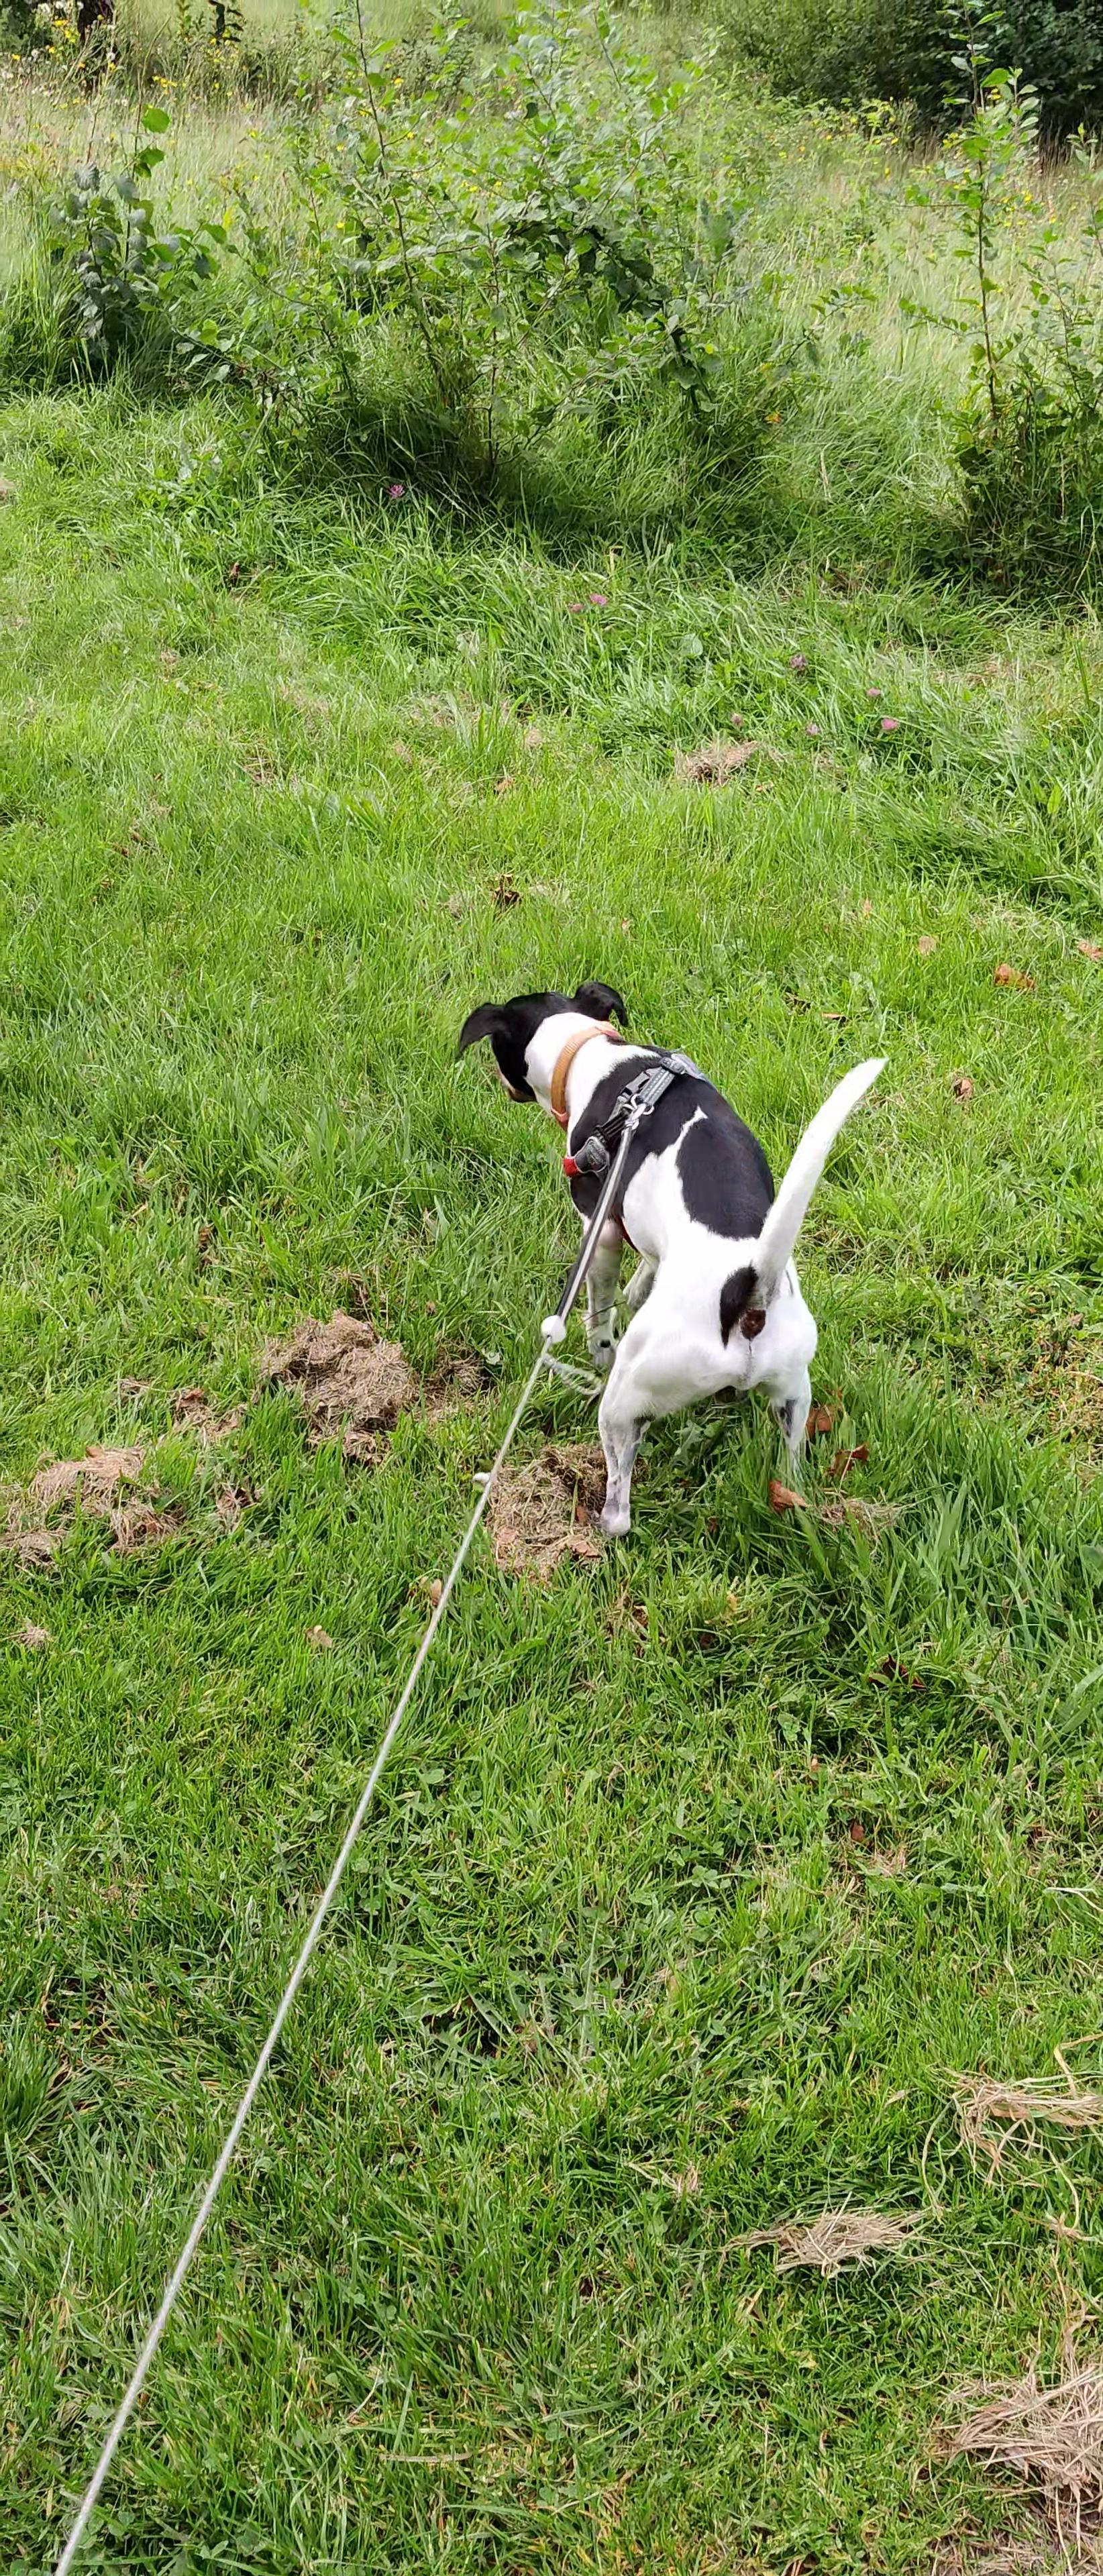Dog: (447, 971, 894, 1541)
